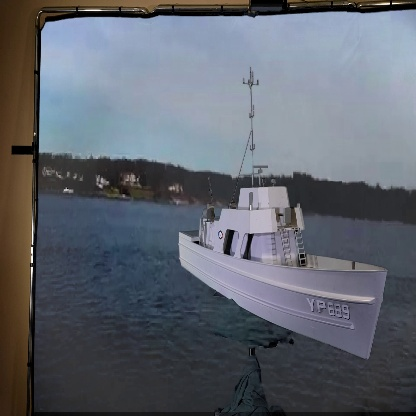YP689: (178, 70, 387, 360)
